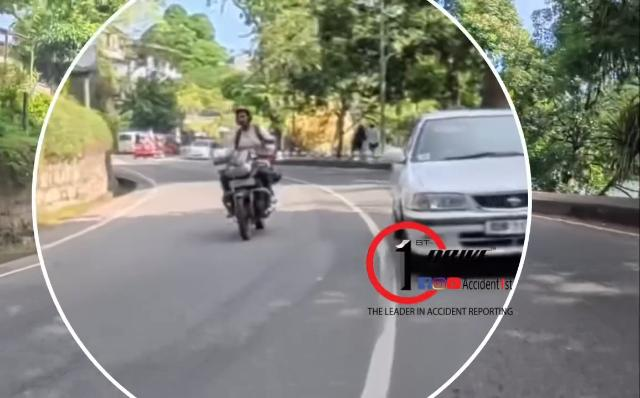illegal overtaking: (198, 101, 341, 238)
